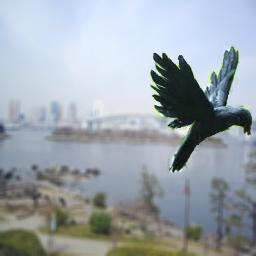Crow: (150, 43, 252, 173)
